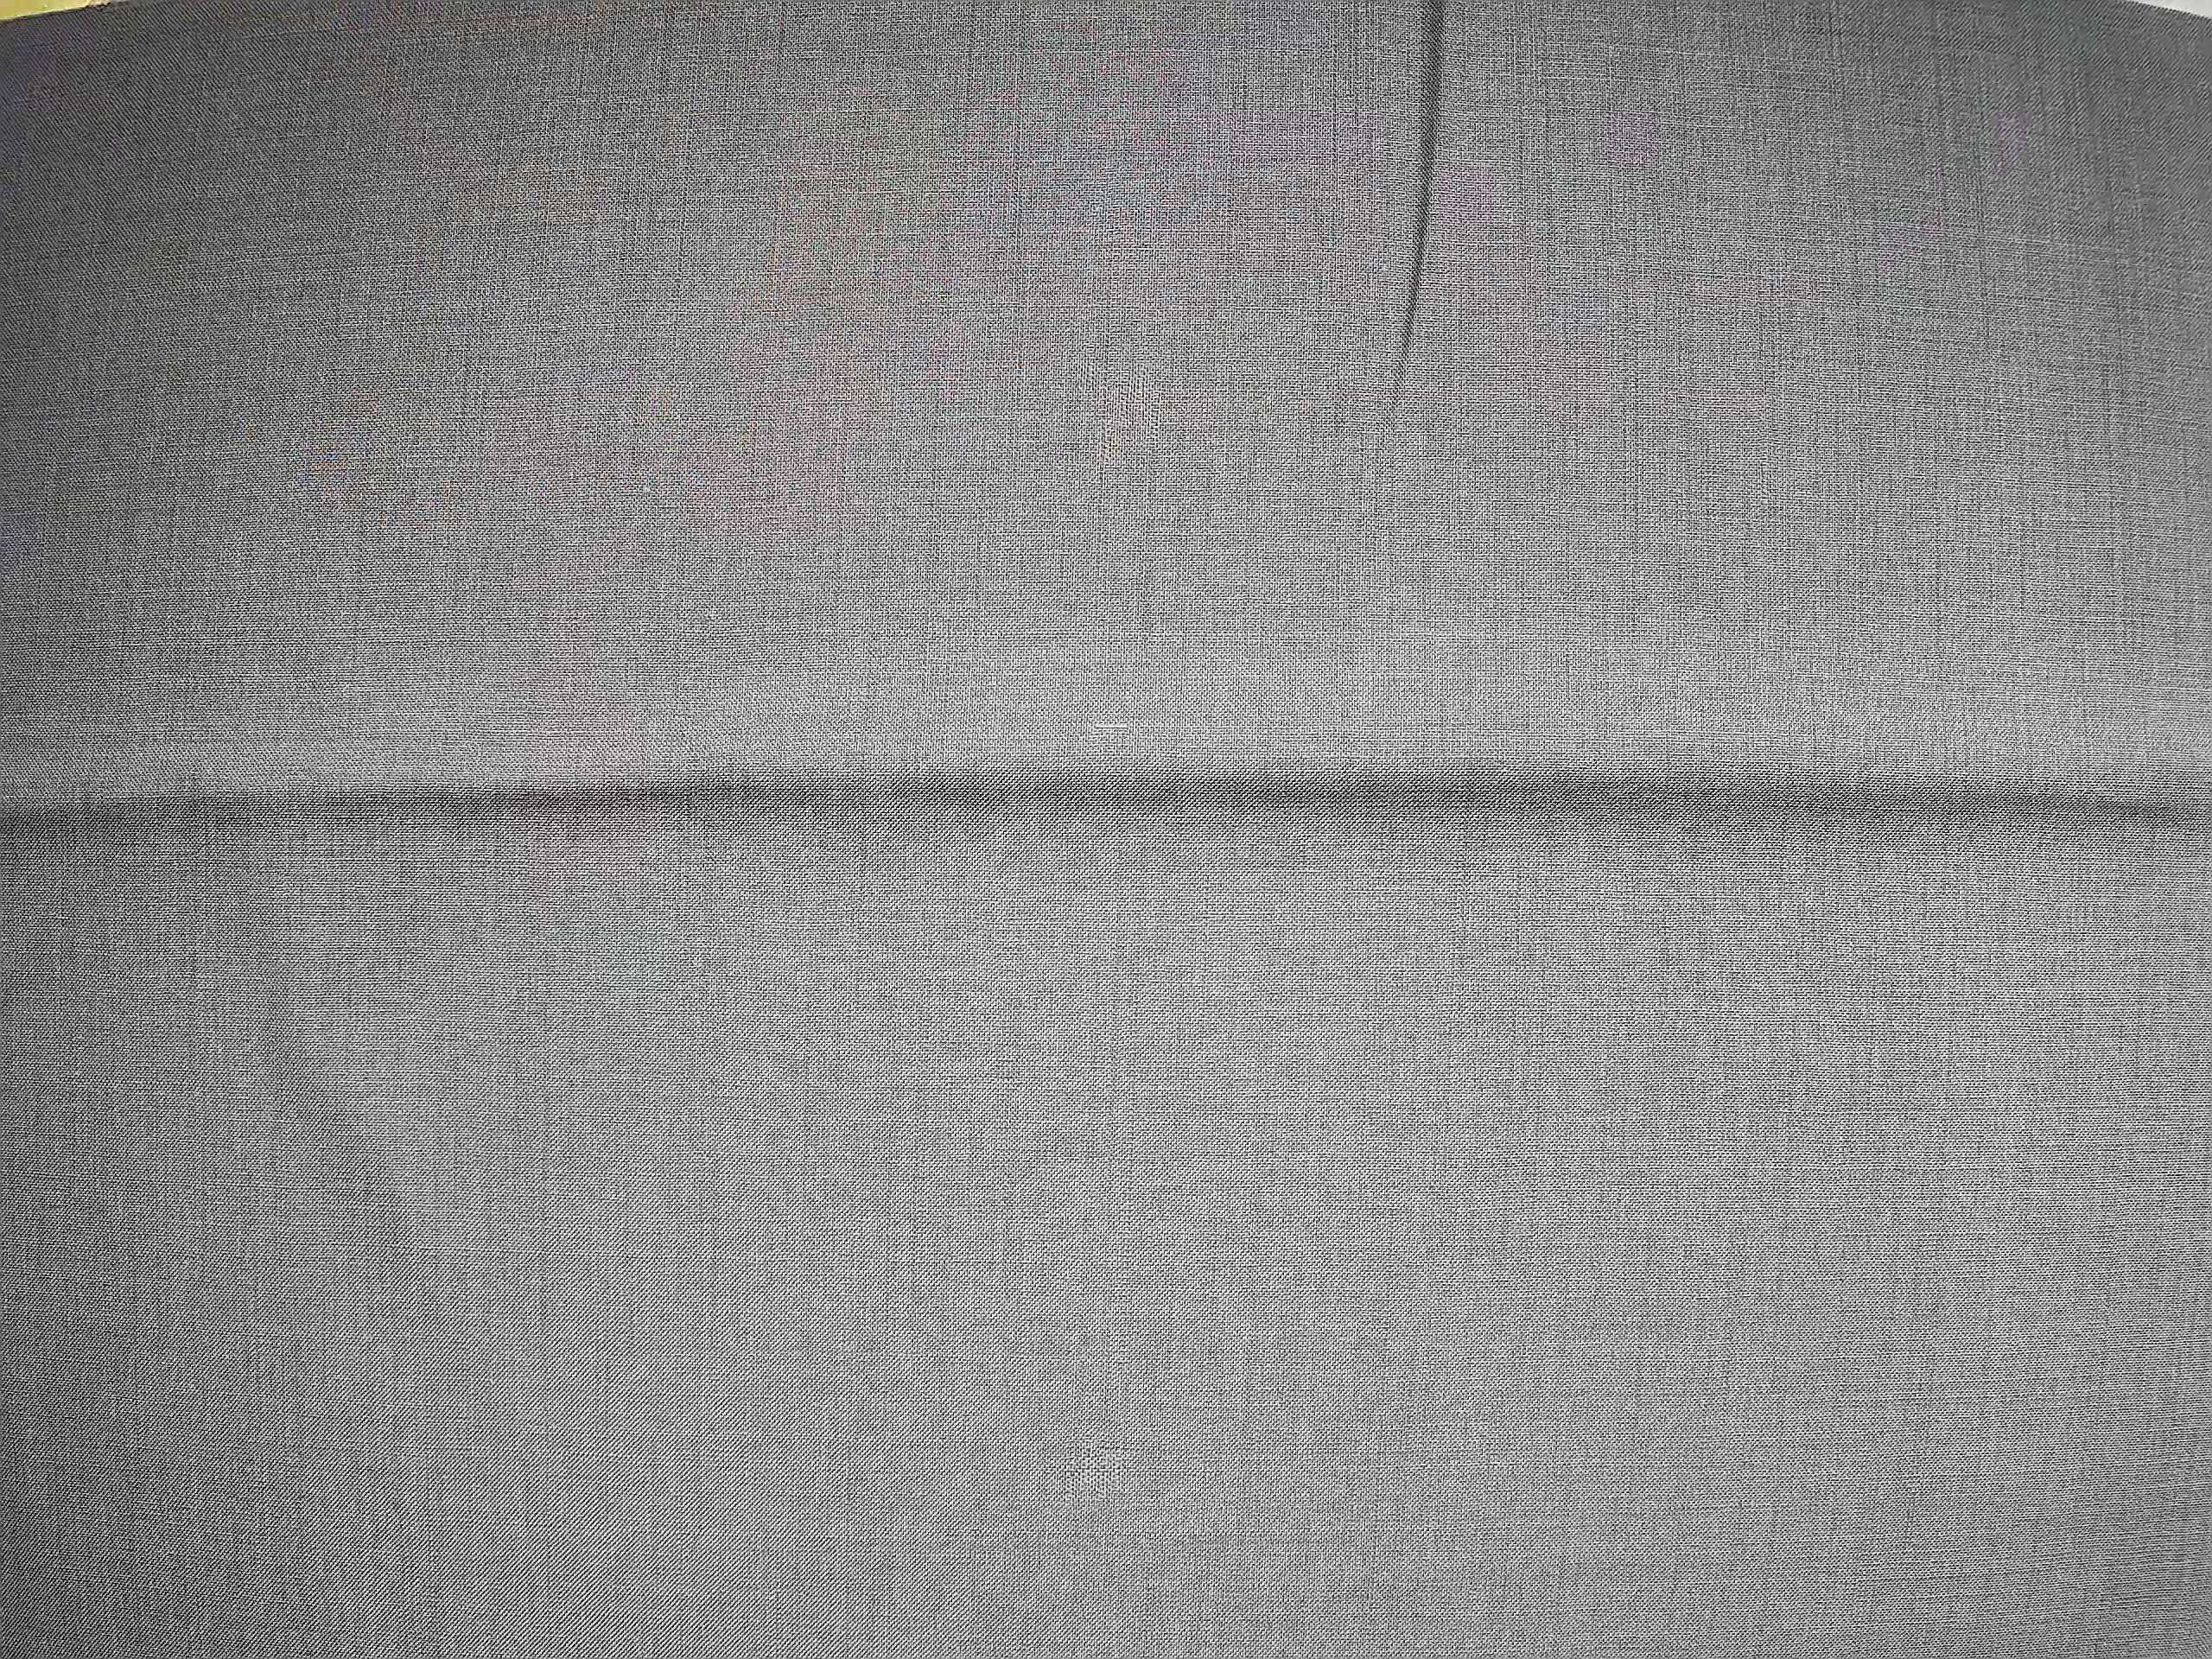others: (1057, 331, 1190, 469), (1062, 697, 1150, 758)
